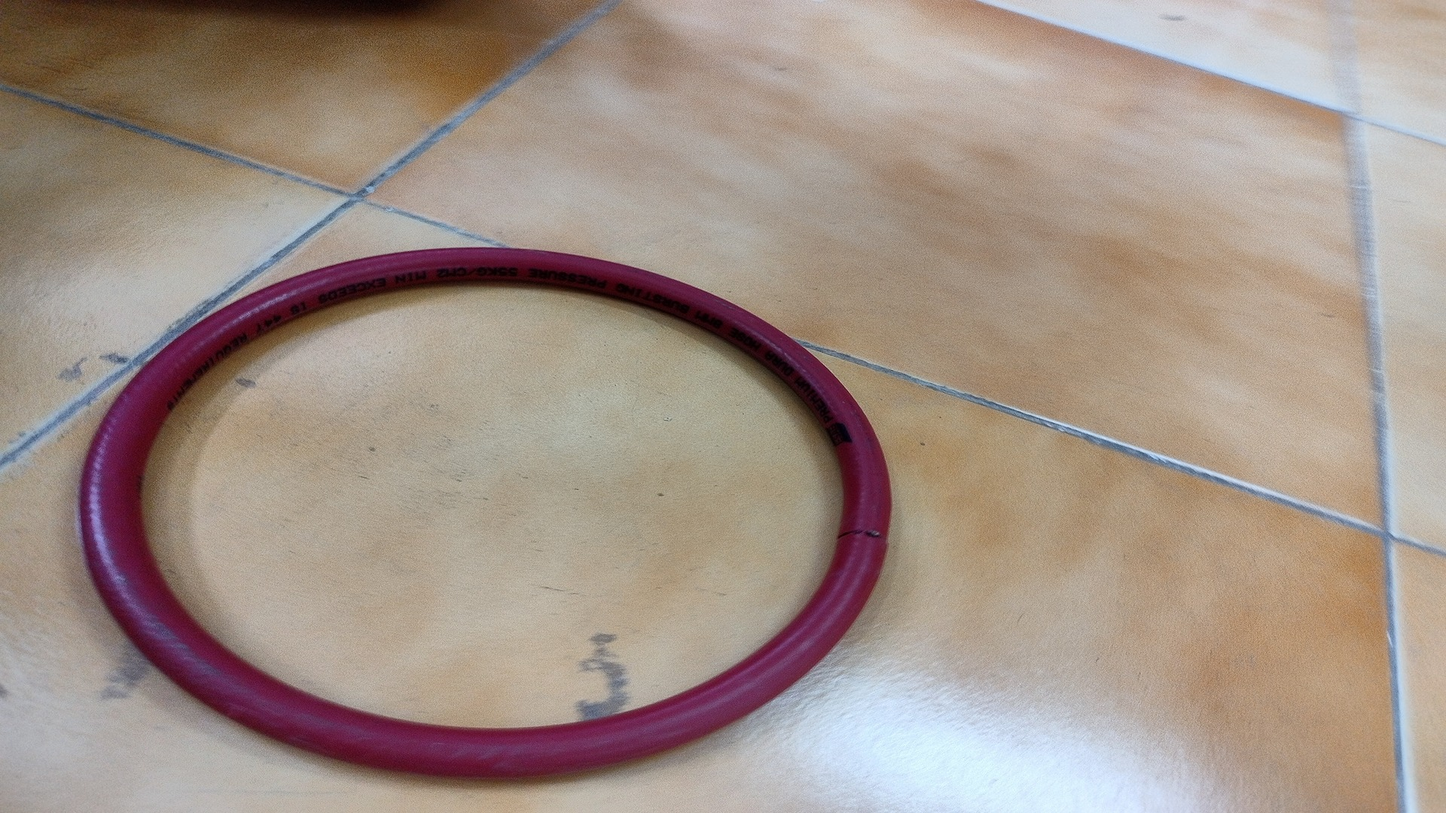Red ring: (76, 248, 894, 779)
